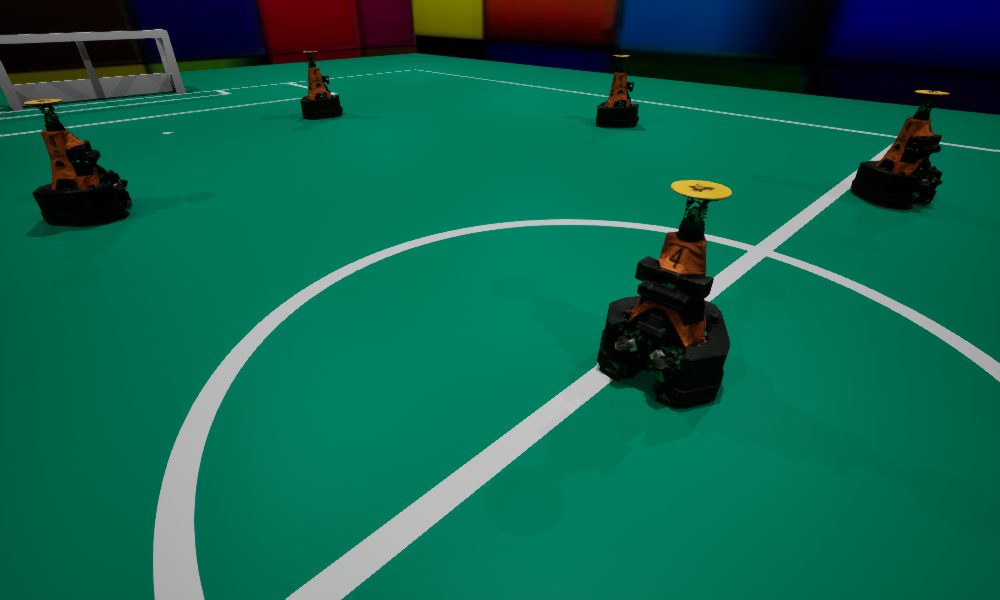0 orange robot TechUnited: (597, 180, 731, 407), (23, 99, 131, 226), (851, 90, 949, 209), (596, 55, 638, 127), (300, 51, 342, 119)
